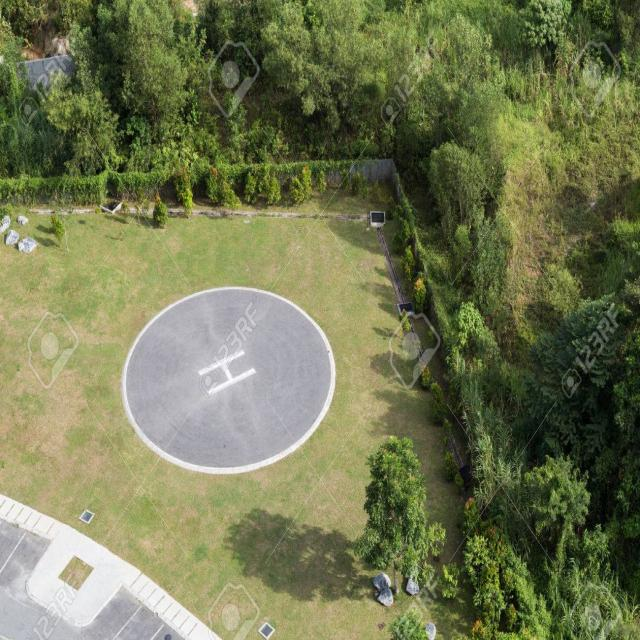helipad: (117, 282, 339, 478)
